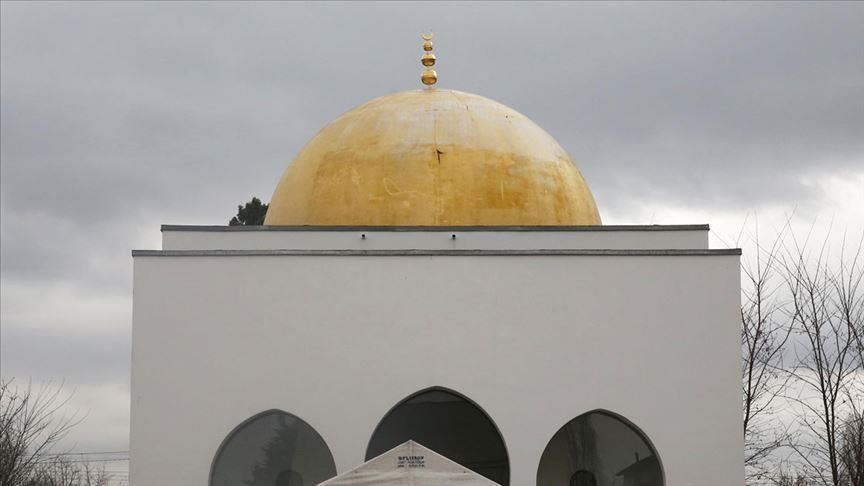Mosque: (112, 28, 760, 463)
